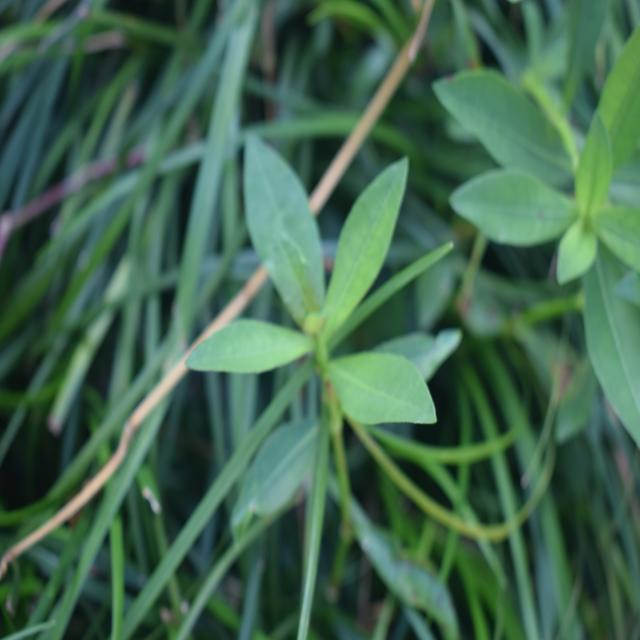Alligatorweed: (204, 145, 448, 468)
